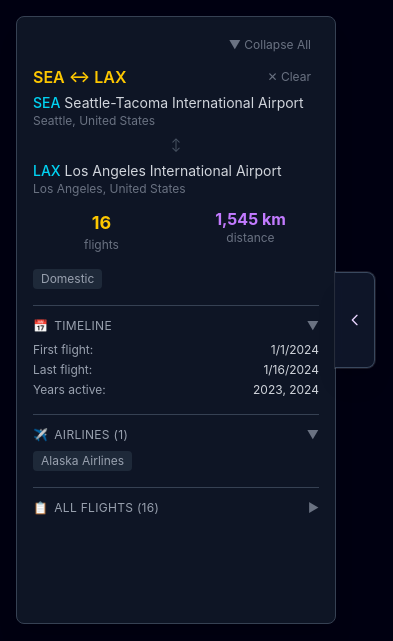
StatsPanel › panel content › presents long route histories incrementally as styled flight entries
The image size is (393, 641).
Click the button "📋 All Flights (16) ▶": (107, 508) [33,500,319,516]
(page scrolled)
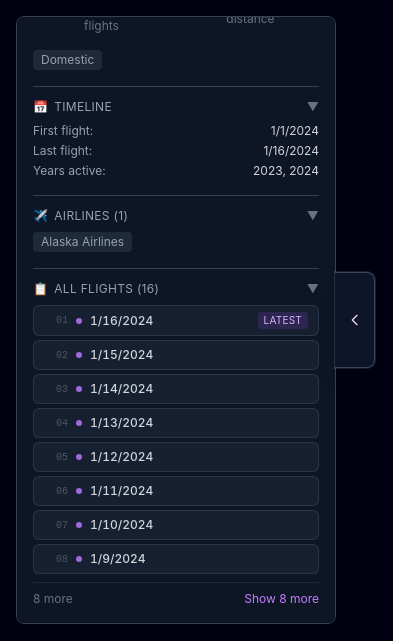
Expected: the text "1/8/2024" is not shown
Result: the text "Latest" is shown at [258,312,308,329]
Result: the text "8 more" is shown at [33,591,73,607]
Click the button "Show 8 more": (282, 599) [244,591,319,607]
(page scrolled)
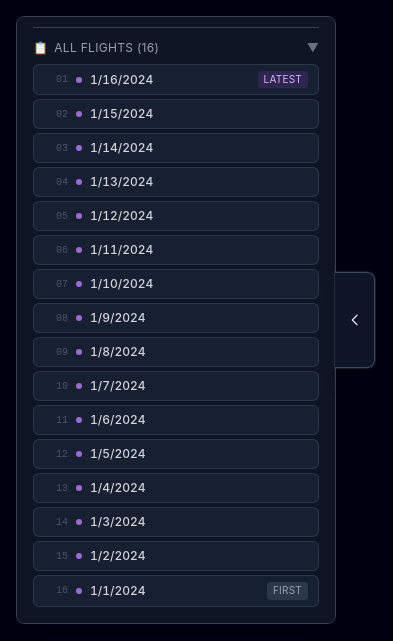
Expected: the text "First" is shown, [267,582,308,600]
Result: the text "1/8/2024" is shown at [90,344,146,360]
